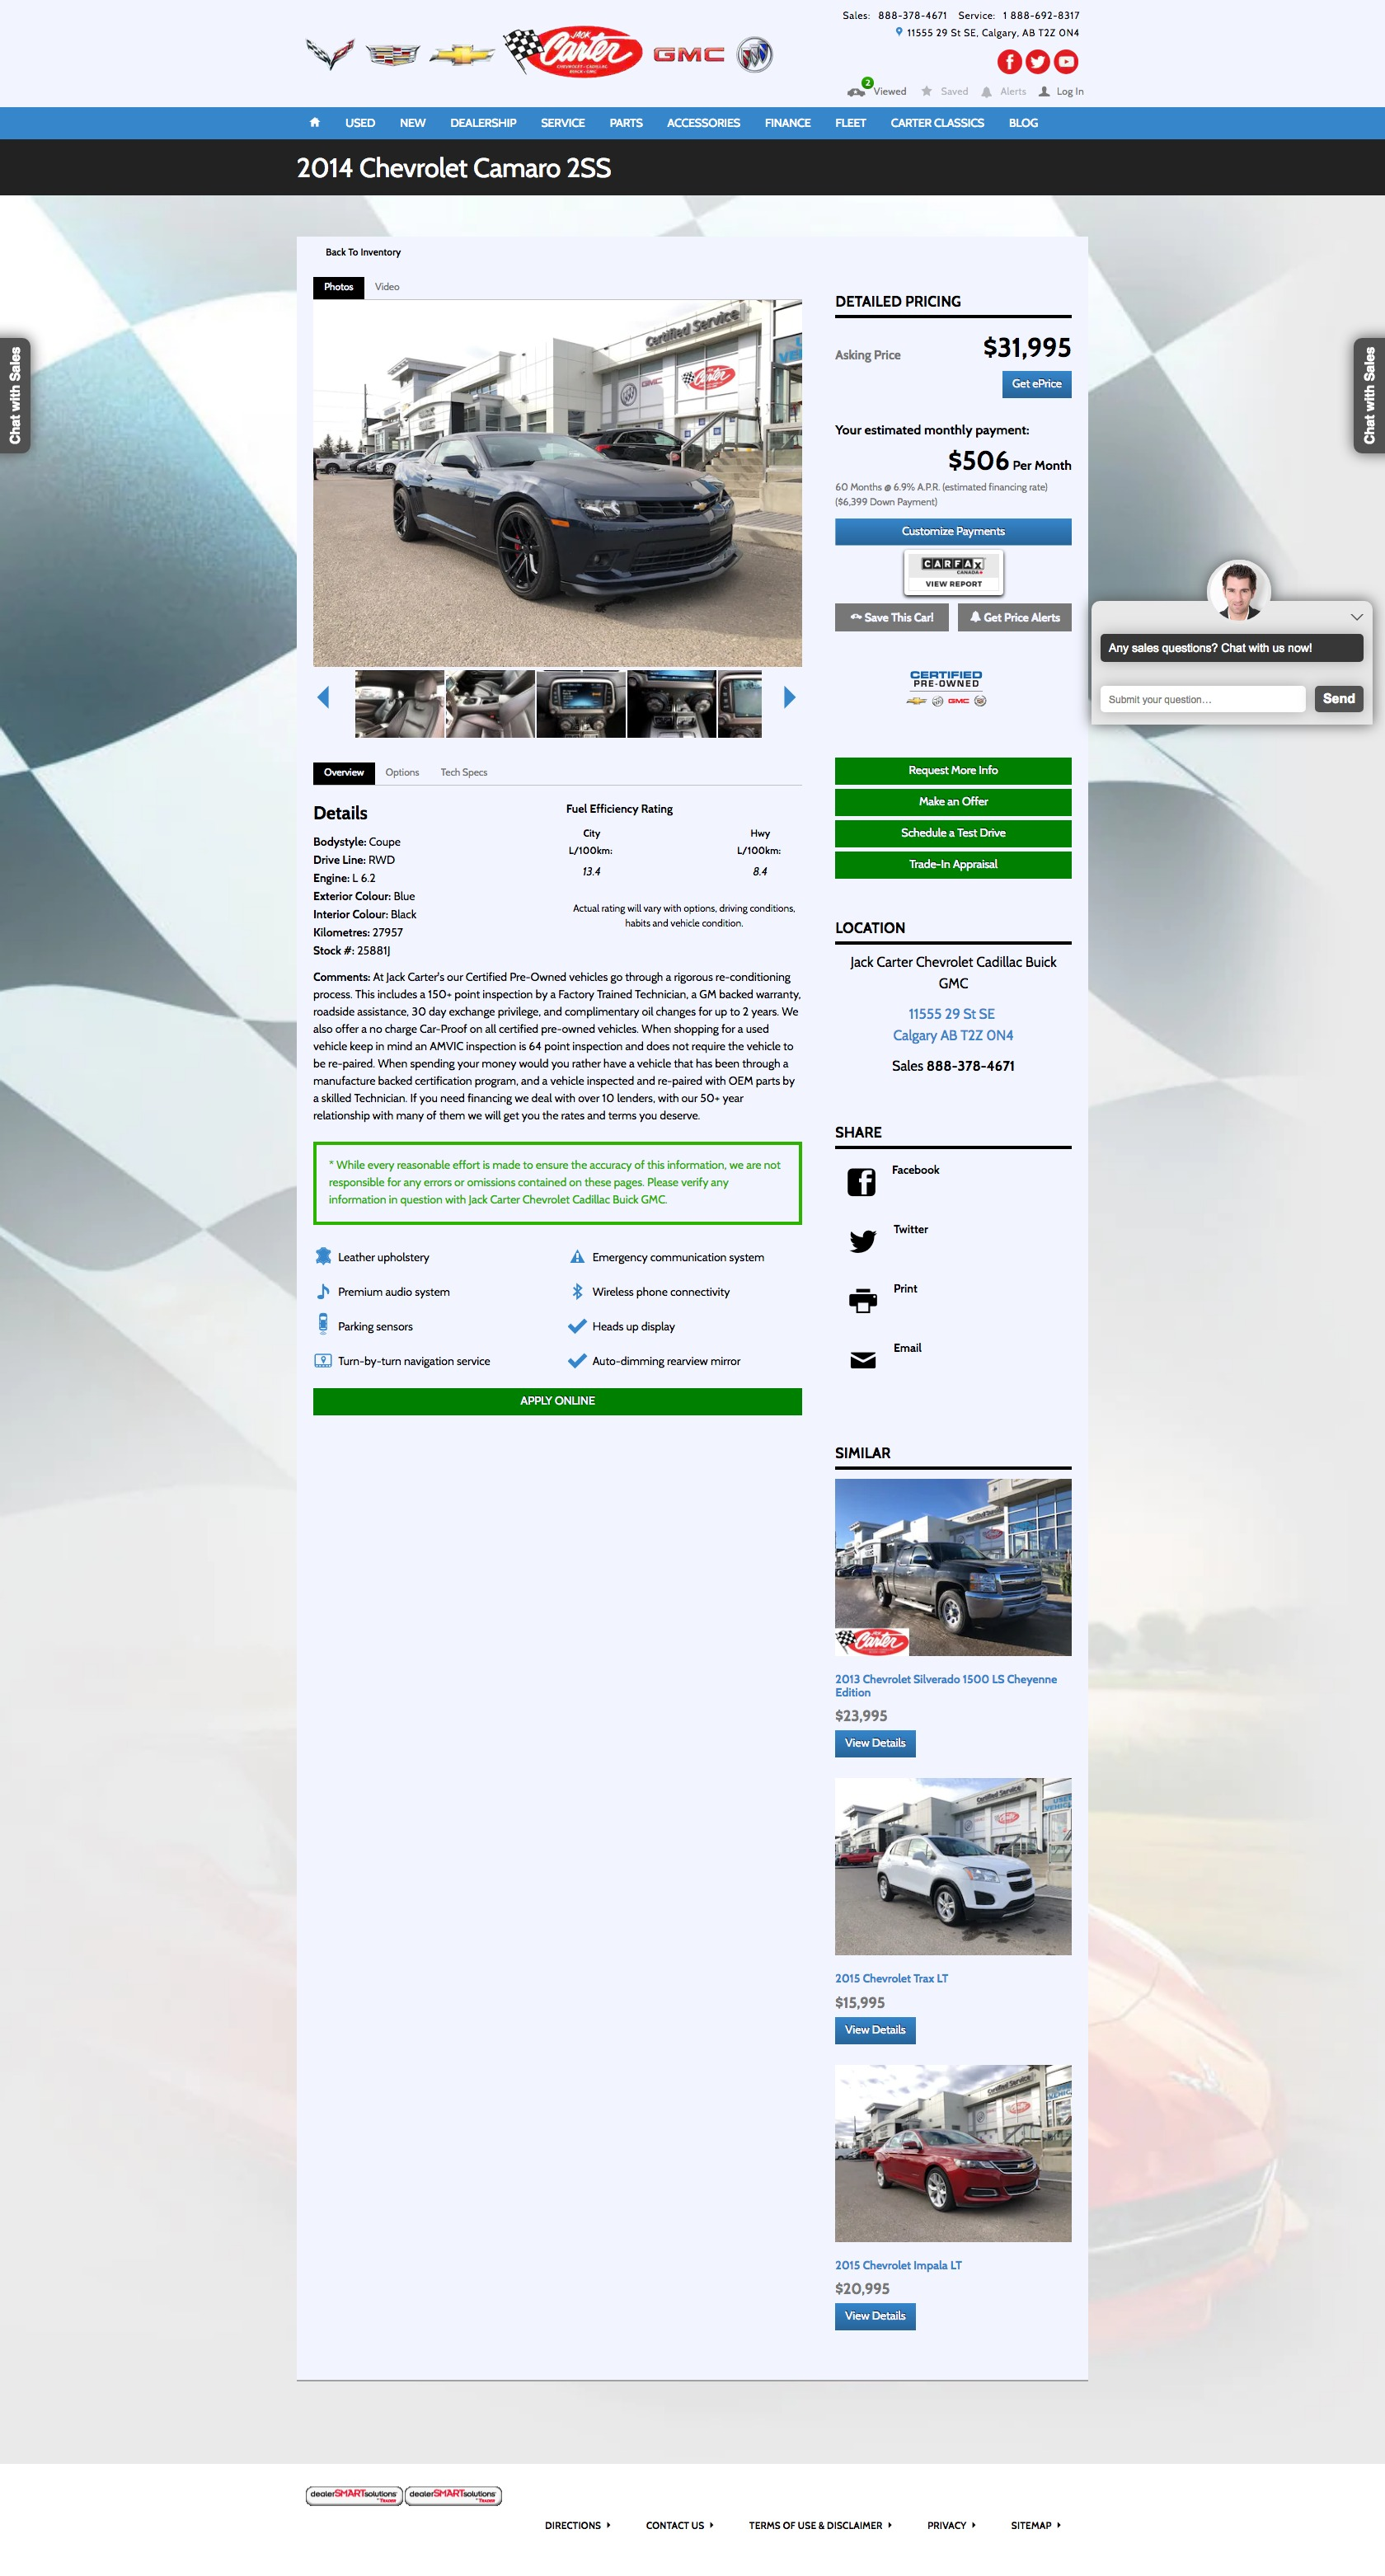car: (783, 685, 797, 711)
